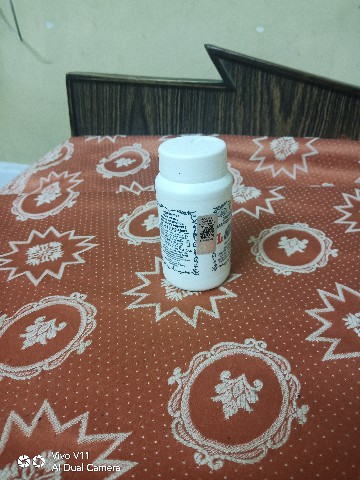lgasafoetidapowder large: (148, 116, 250, 314)
